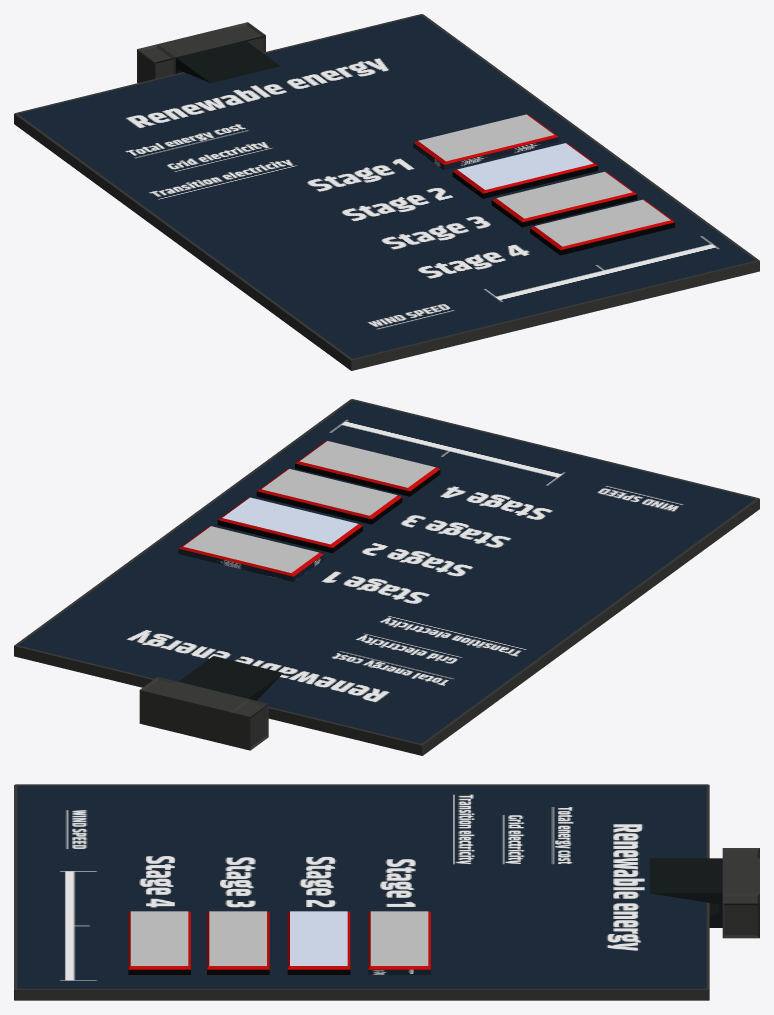
The model's file is clip_solar2.obj.
3 renders of one model, top to bottom at view 1: azimuth 30°, elevation 25°; view 2: azimuth 150°, elevation 25°; view 3: azimuth 270°, elevation 25°, orthographic. The views are drawn at different scales.
Visible parts, largest first — view 1: clipboard_solar; view 2: clipboard_solar; view 3: clipboard_solar.
Boxes of the visible parts, x1,y1,x2,y2 form: clipboard_solar: (14,14,759,370); clipboard_solar: (14,399,759,755); clipboard_solar: (14,784,759,1000).
Bounding box in the file's own units: 0.2144 × 0.0169 × 0.3289.
Materials: 15 (1 with a texture image).
